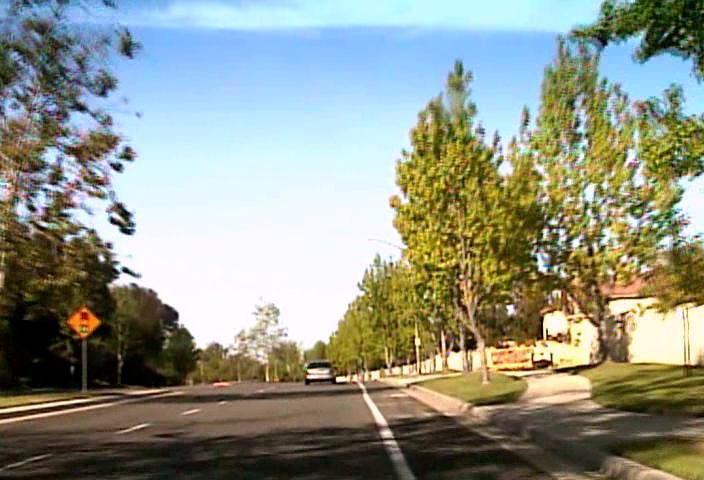signalAhead: (64, 305, 101, 339)
